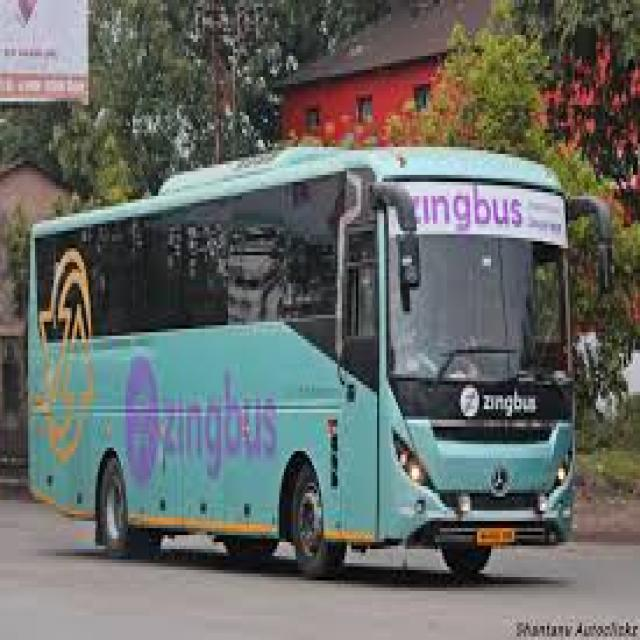bus: (29, 148, 570, 574)
